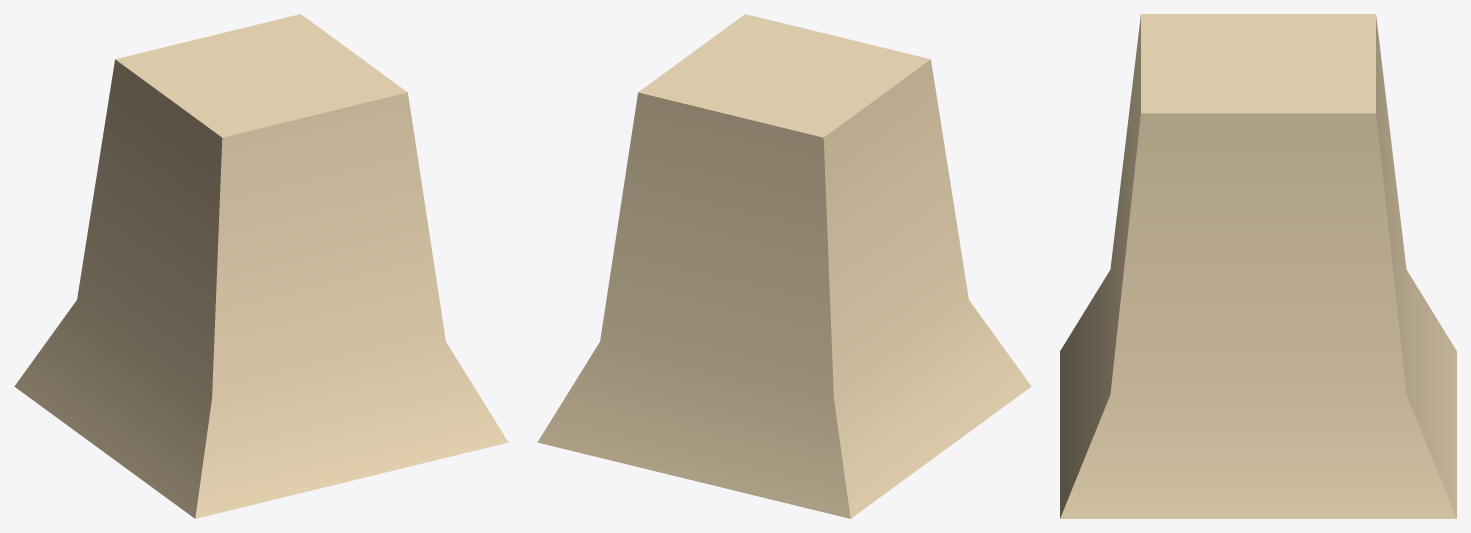
Rendered from naturePack_082.fbx.
The picture shows the model from 3 angles, left to right: view 1: azimuth 30°, elevation 25°; view 2: azimuth 150°, elevation 25°; view 3: azimuth 270°, elevation 25°; orthographic projection. The views are drawn at different scales.
Visible parts, largest first — view 1: naturePack_082; view 2: naturePack_082; view 3: naturePack_082.
Boxes of the visible parts, x1,y1,x2,y2 form: naturePack_082: (14, 14, 508, 518); naturePack_082: (537, 14, 1031, 518); naturePack_082: (1060, 14, 1456, 518).
Size of the model in its own units: 80.37 by 83 by 80.37.
